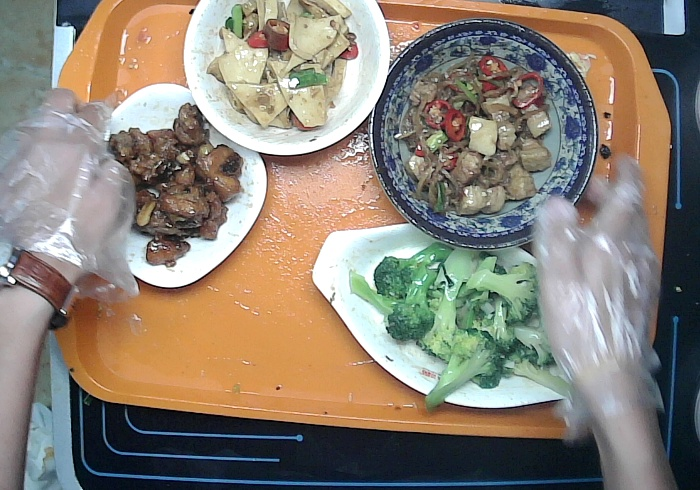ZNLD-Qing_Hua_Wan: (368, 14, 601, 252)
ZNLD-Si_Fang_Wan: (98, 80, 269, 291)
ZNLD-Tang_Wan: (181, 1, 391, 159)
ZNLD-Yu_Pan: (311, 220, 558, 411)
